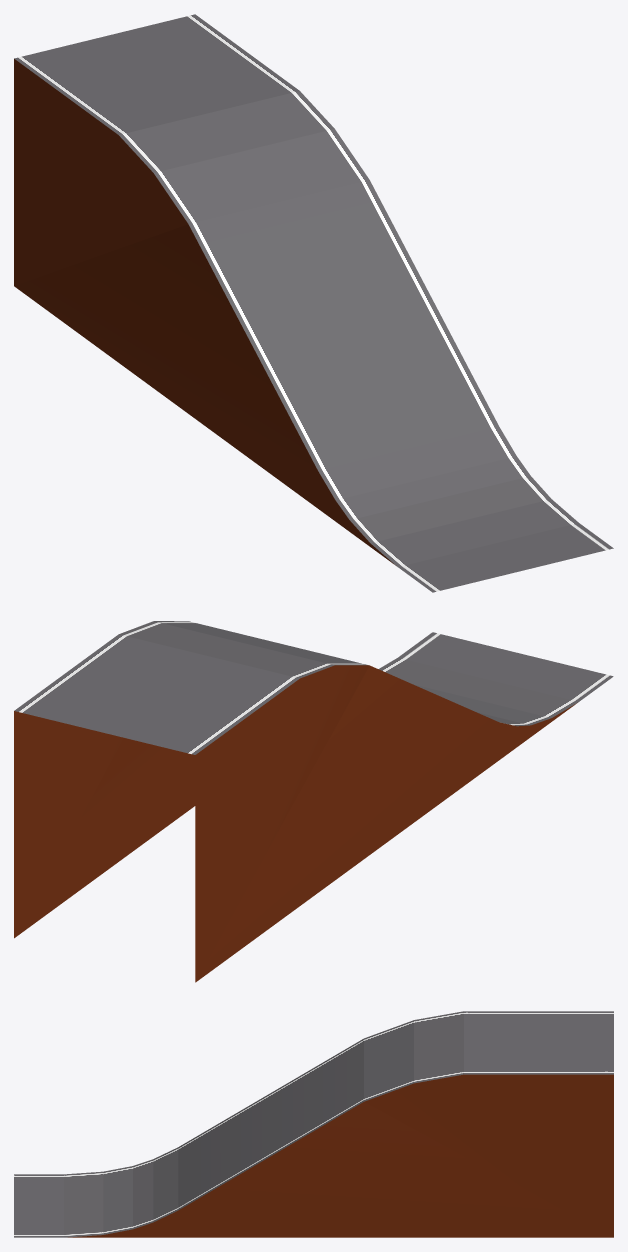
File: Road_09.fbx
3 views of the same model, one above another, from view 1: azimuth 30°, elevation 25°; view 2: azimuth 150°, elevation 25°; view 3: azimuth 270°, elevation 25° (orthographic). The views are drawn at different scales.
Parts seen in each view (by area): view 1: Road_09; view 2: Road_09; view 3: Road_09.
Part boxes in pixels (x1,y1,x2,y2): Road_09: (14, 14, 613, 592); Road_09: (14, 621, 613, 982); Road_09: (14, 1011, 613, 1237).
Bounding box in the file's own units: 500 × 600 × 2000.
